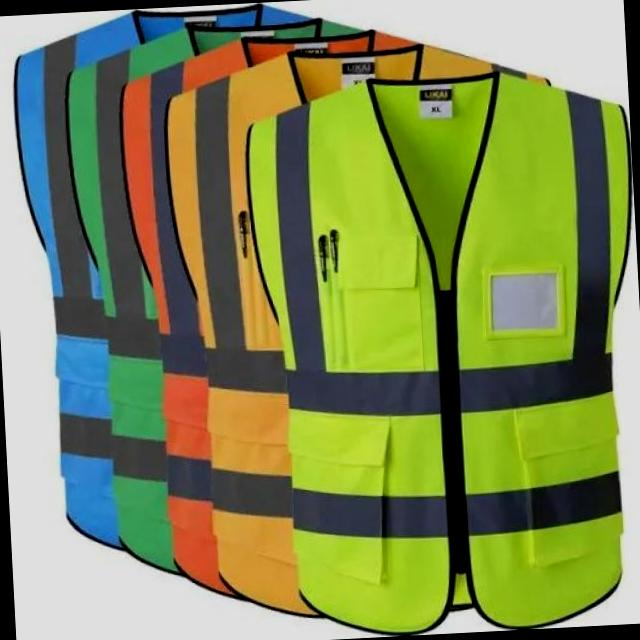construction-vest: (162, 43, 580, 630), (248, 65, 639, 640), (118, 24, 502, 602), (8, 2, 343, 560), (63, 18, 393, 580)
